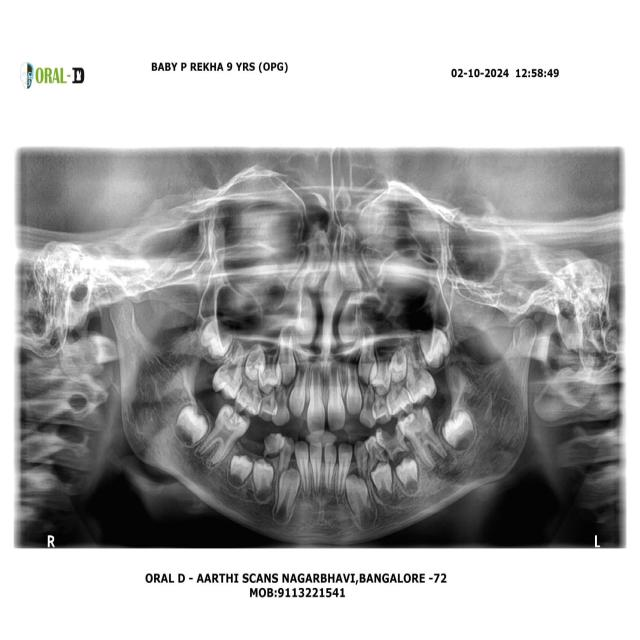Premolars: (366, 432, 392, 476)
